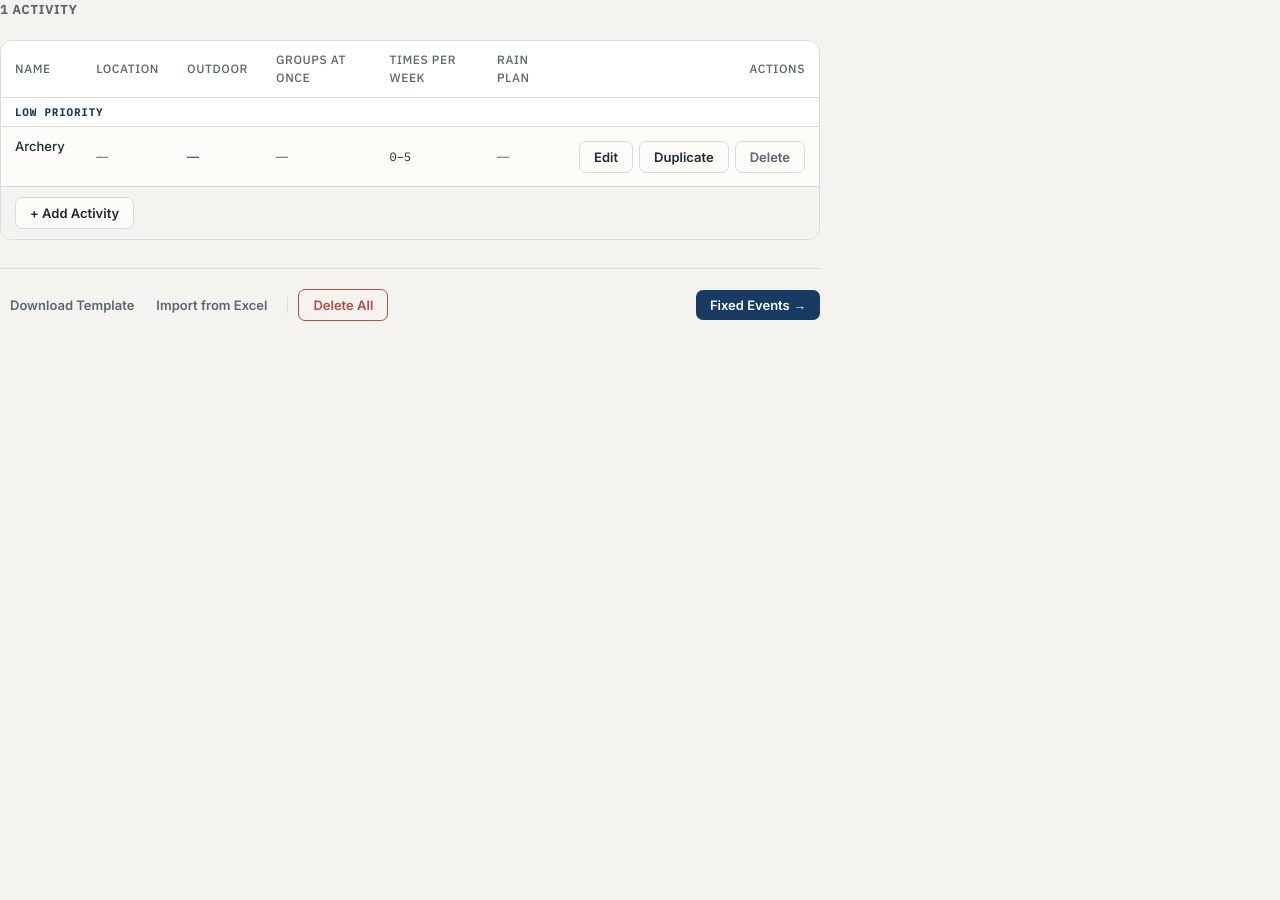
Test case: ActivitiesScreen quick-add › rejects a duplicate name (case-insensitive) without writing
The width and height of the screenshot is (1280, 900).
Expected: the button "Archery" is shown, [15,138,65,154]
Click the button "+ Add Activity" at (75, 213), box [15,197,134,229]
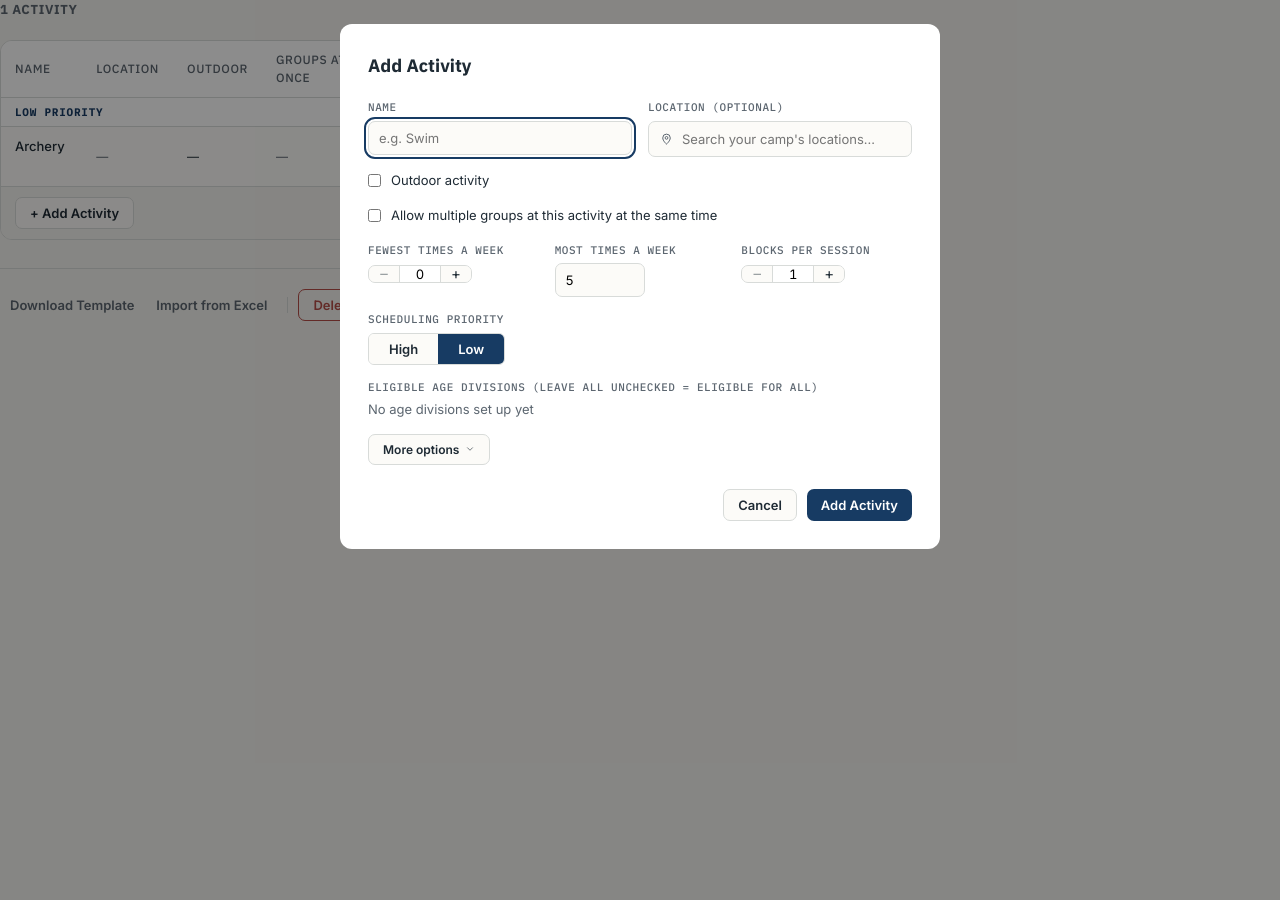
Now the field with placeholder "e.g. Swim" is shown
Type "archery" into the field with placeholder "e.g. Swim" at (500, 138), box [368,120,632,154]
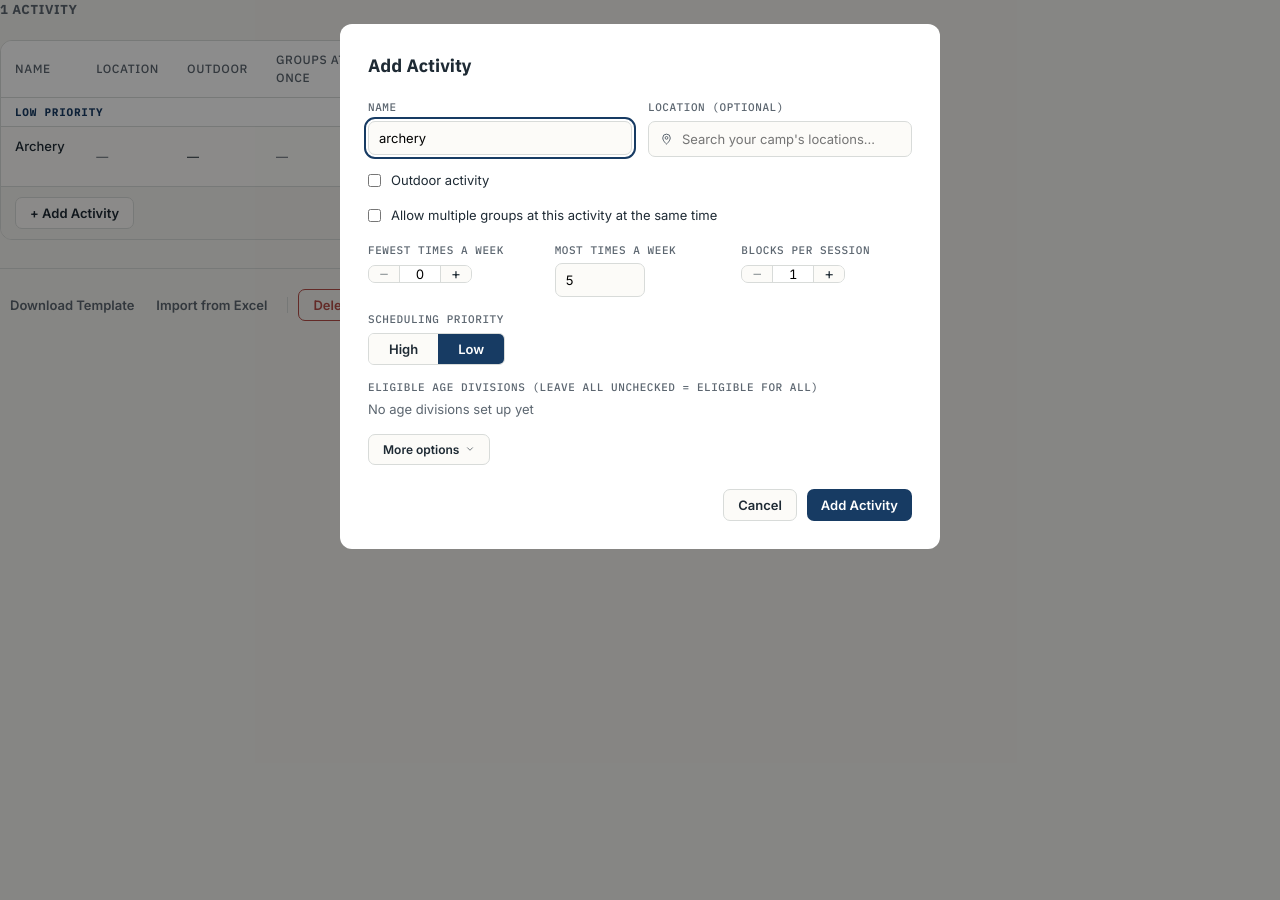
Click the button "Add Activity" at (859, 504), box [807,488,912,520]
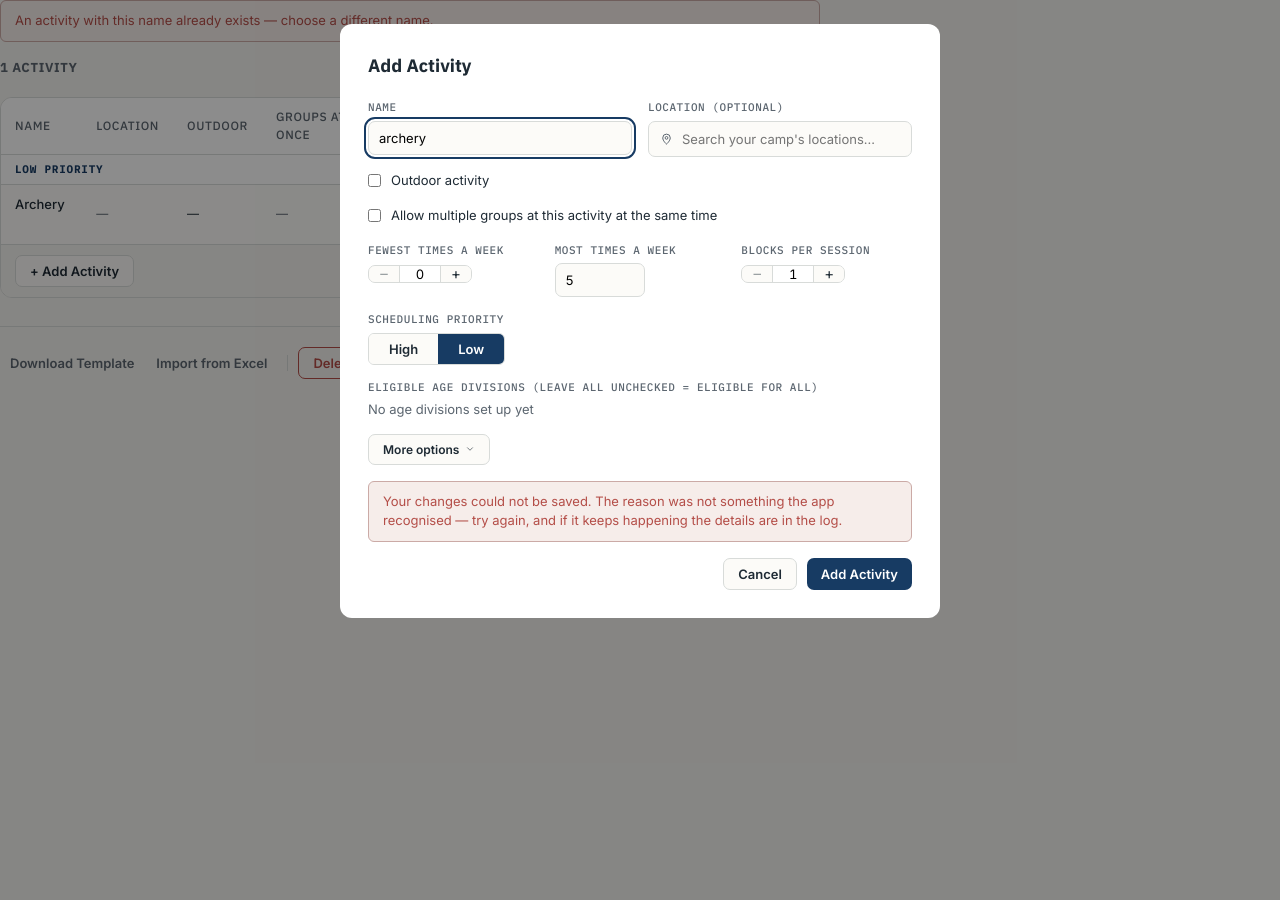
Now the text "An activity with this name already exists" is shown, box [15,12,434,28]
